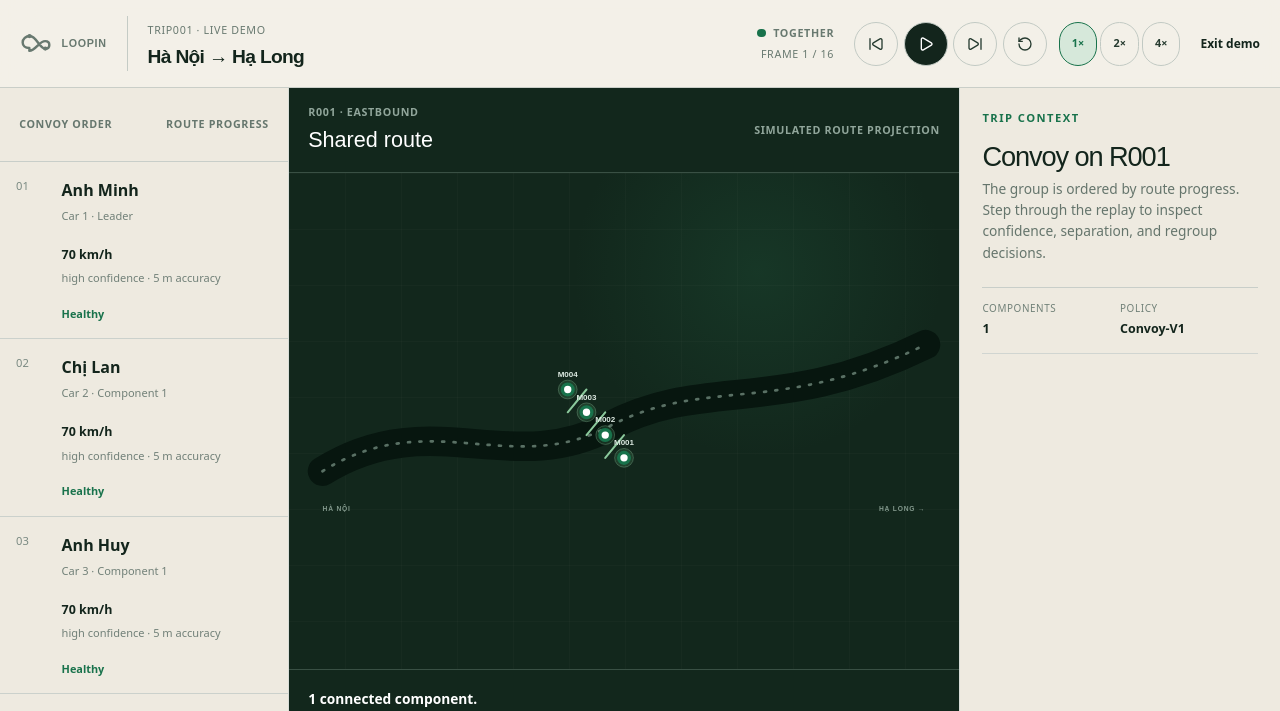
Scenario: SituationInspector › explains degraded confidence without confirming a split
Step 1. Click the button named "next frame" → (975,44), box [953, 22, 997, 66]
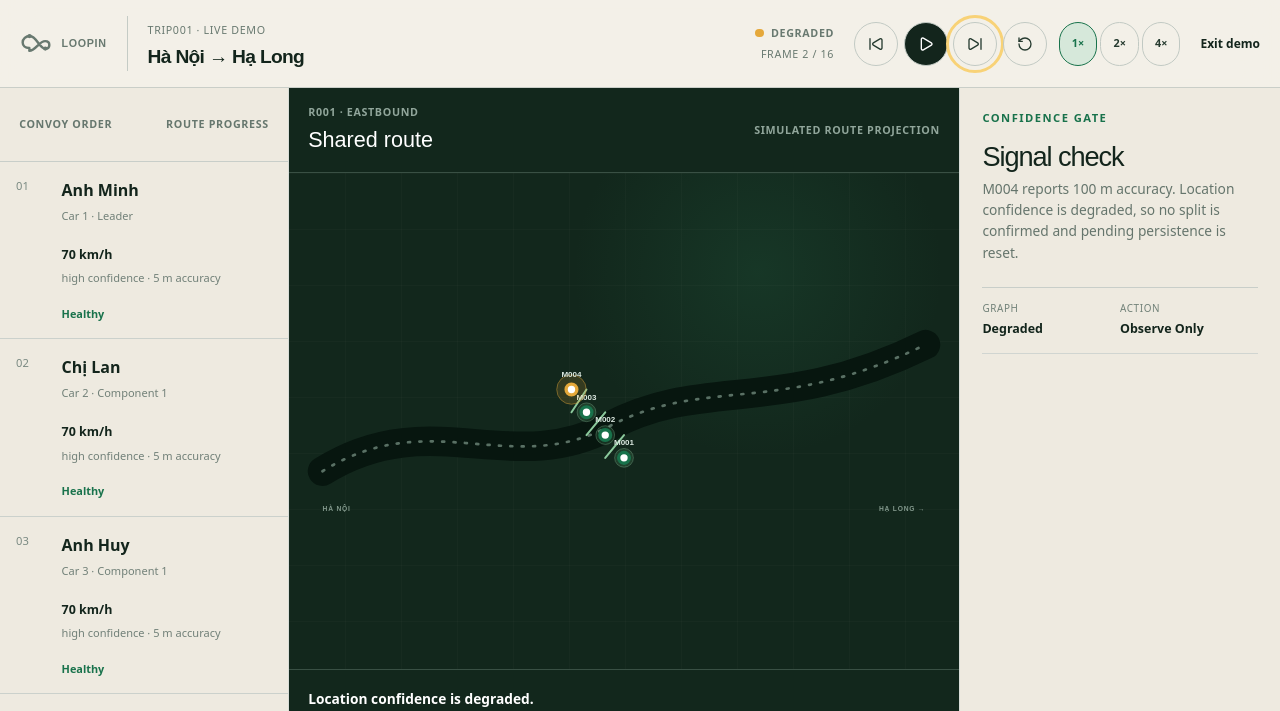
Now the heading "Signal check" is shown, box [982, 141, 1124, 172]
Now the text "no split is confirmed" is shown, box [982, 179, 1234, 262]
